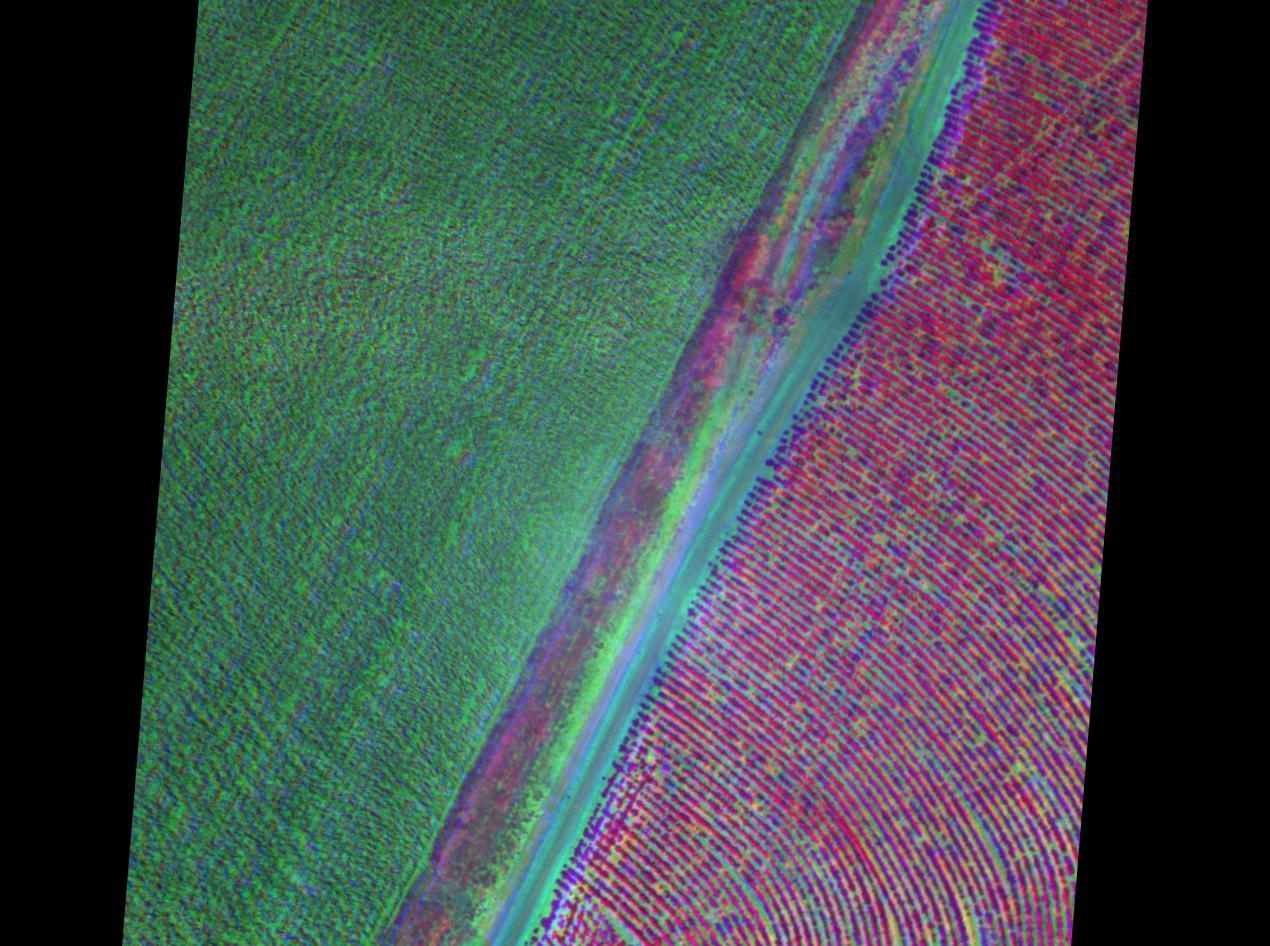dc: (936, 788, 1003, 857), (586, 878, 652, 946), (676, 635, 749, 687), (931, 893, 998, 946)
